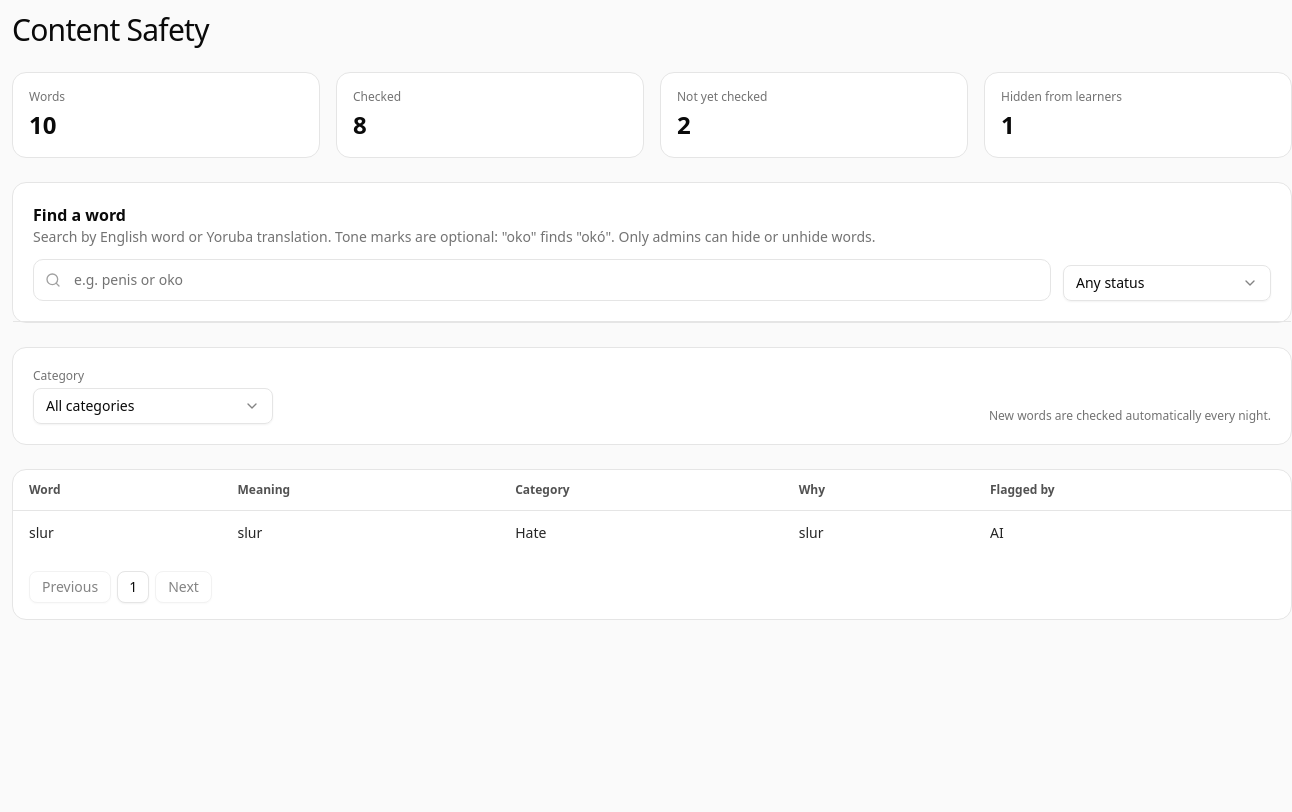
Test case: Content Safety page › shows managers the status but no hide/unhide or run controls
Type "oko" into the search field named "Search words" at (542, 280), box [33,259,1051,301]
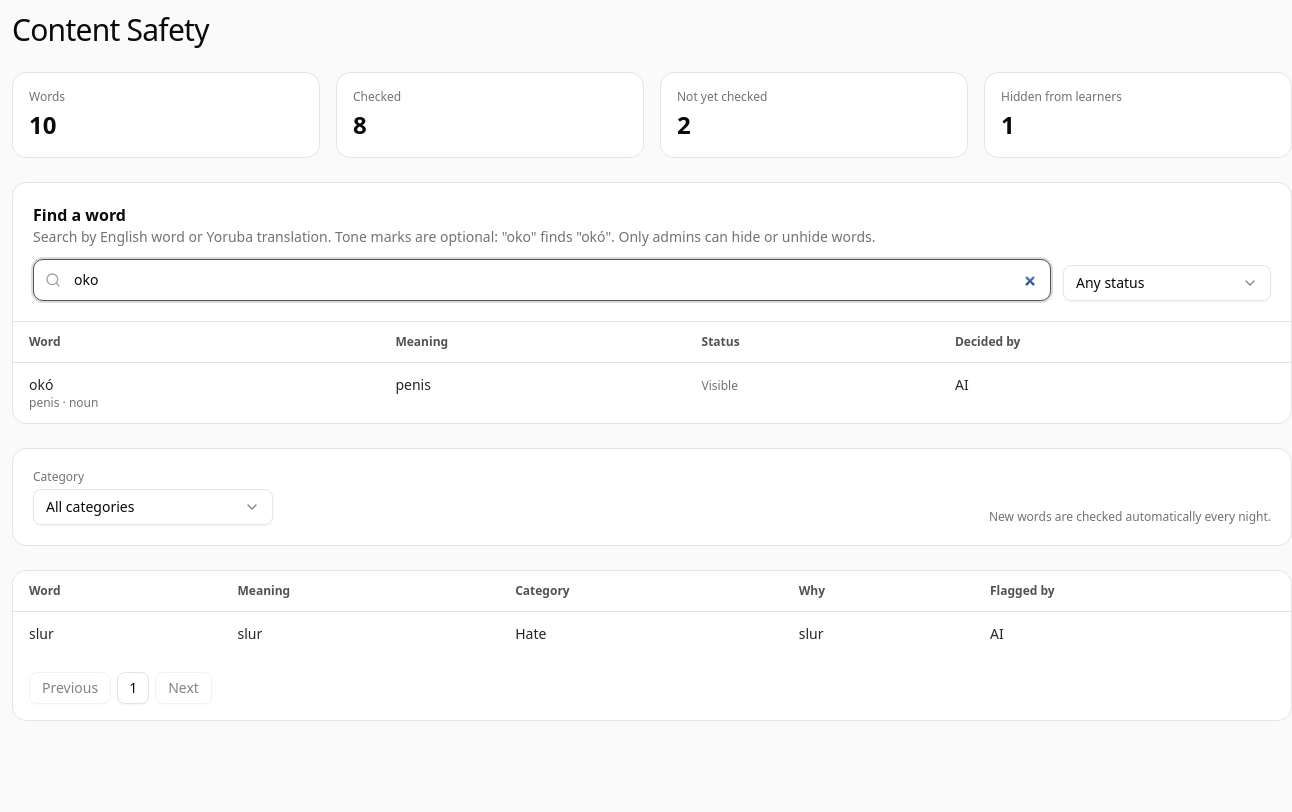
expect the row with test id "search-row-lemma-penis" is shown: met, box [13,362,1291,423]
